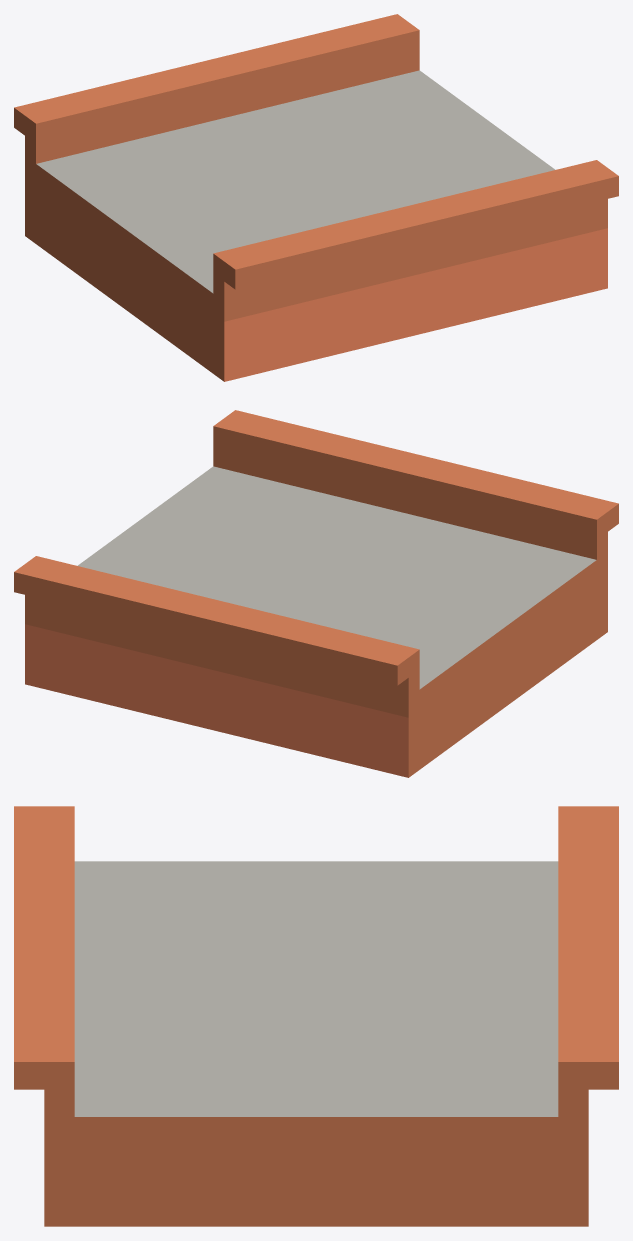
Rendered from bridge_center_wood.glb.
3 renders of one model, top to bottom at view 1: azimuth 30°, elevation 25°; view 2: azimuth 150°, elevation 25°; view 3: azimuth 270°, elevation 25°, orthographic. The views are drawn at different scales.
Parts seen in each view (by area): view 1: bridge_center_wood; view 2: bridge_center_wood; view 3: bridge_center_wood.
Boxes of the visible parts, x1,y1,x2,y2 form: bridge_center_wood: (14, 14, 618, 381); bridge_center_wood: (14, 410, 618, 777); bridge_center_wood: (14, 806, 618, 1226).
Bounding box in the file's own units: 1 × 0.3 × 1.
